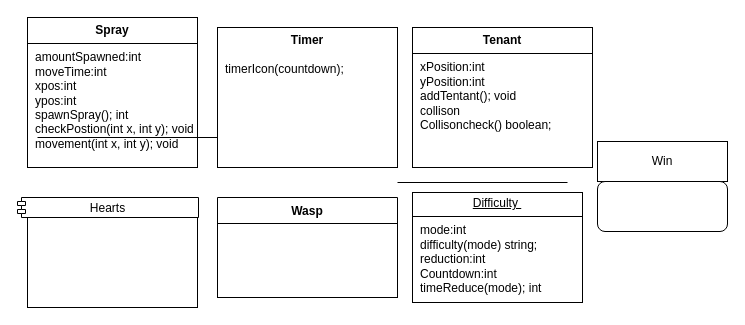
The diagram is 745 pixels wide and 325 high, and some of its shapes have lost their labels. The box of each missing label's shape, as (x1, y1, x2, y2) in pixels:
lives:int changeicon(int): wincondition(int lives, int timer); boolean;: (26, 196, 198, 308)
Loss: (596, 180, 728, 232)
xPosition:int yPosition:int movePlayer(); void: (216, 222, 398, 298)
